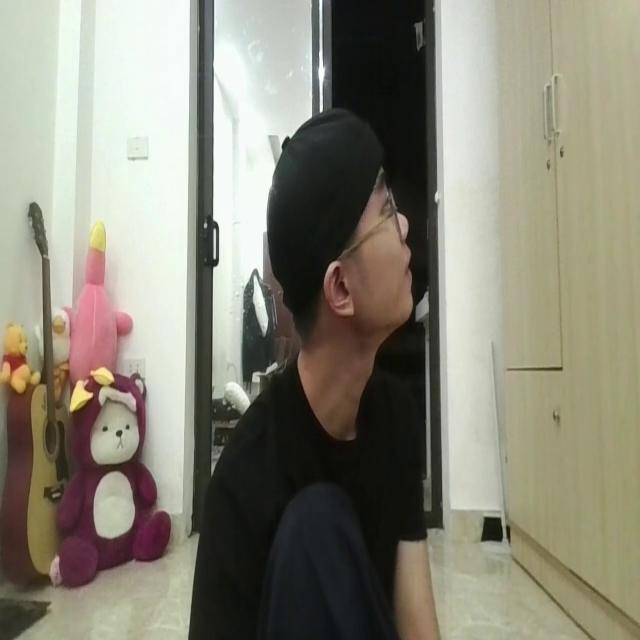student: (204, 102, 442, 640)
